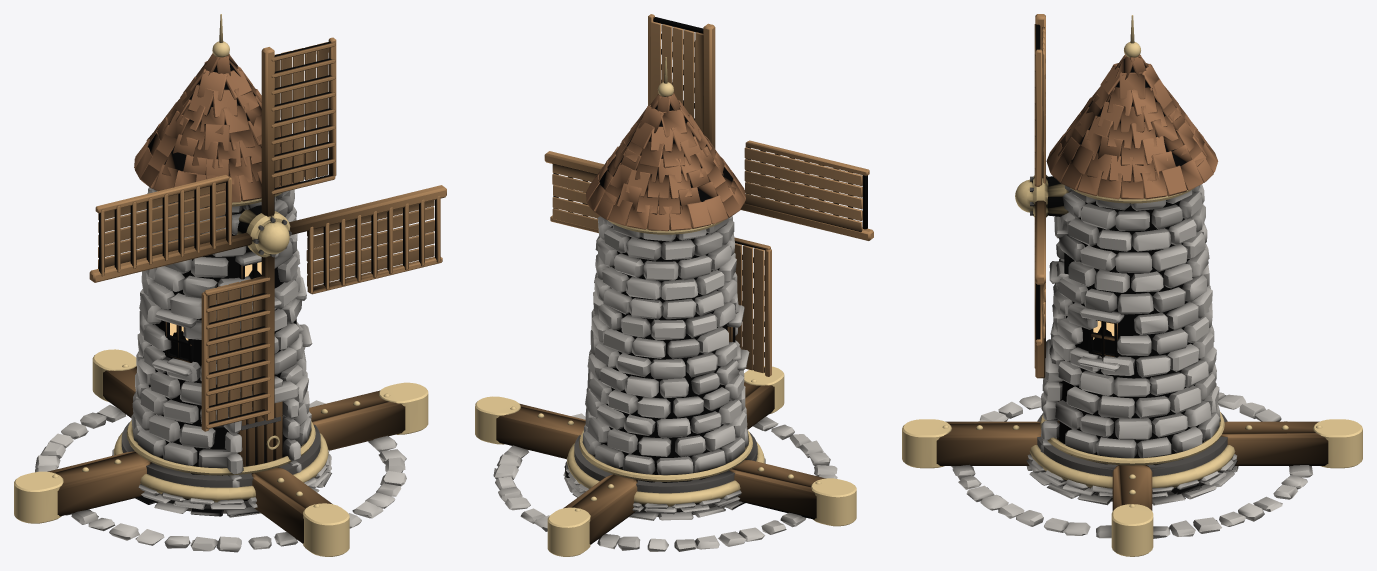
The model's file is windmill.glb.
3 views of the same model, side by side, from view 1: azimuth 30°, elevation 25°; view 2: azimuth 150°, elevation 25°; view 3: azimuth 270°, elevation 25° (orthographic). The views are drawn at different scales.
Visible parts, largest first — view 1: SailsMesh, BodyMesh, SweepersMesh, EdgeMesh; view 2: BodyMesh, SailsMesh, SweepersMesh, EdgeMesh; view 3: BodyMesh, SweepersMesh, EdgeMesh, SailsMesh.
Part boxes in pixels (x1,y1,x2,y2): SailsMesh: [89, 37, 446, 431]; BodyMesh: [112, 14, 331, 517]; SweepersMesh: [14, 349, 428, 556]; EdgeMesh: [35, 400, 406, 552]; BodyMesh: [563, 57, 765, 520]; SailsMesh: [544, 14, 873, 376]; SweepersMesh: [475, 366, 856, 556]; EdgeMesh: [493, 413, 837, 551]; BodyMesh: [1026, 15, 1238, 505]; SweepersMesh: [902, 413, 1362, 556]; EdgeMesh: [951, 392, 1312, 538]; SailsMesh: [1015, 14, 1048, 378].
Size of the model in its own units: 180 by 194 by 180.
